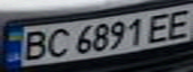1: (124, 15, 151, 47)
6: (72, 22, 96, 55)
8: (90, 20, 112, 52)
9: (106, 19, 130, 51)
B: (15, 28, 51, 62)
C: (42, 26, 72, 60)
E: (142, 11, 178, 43), (160, 7, 193, 40)
